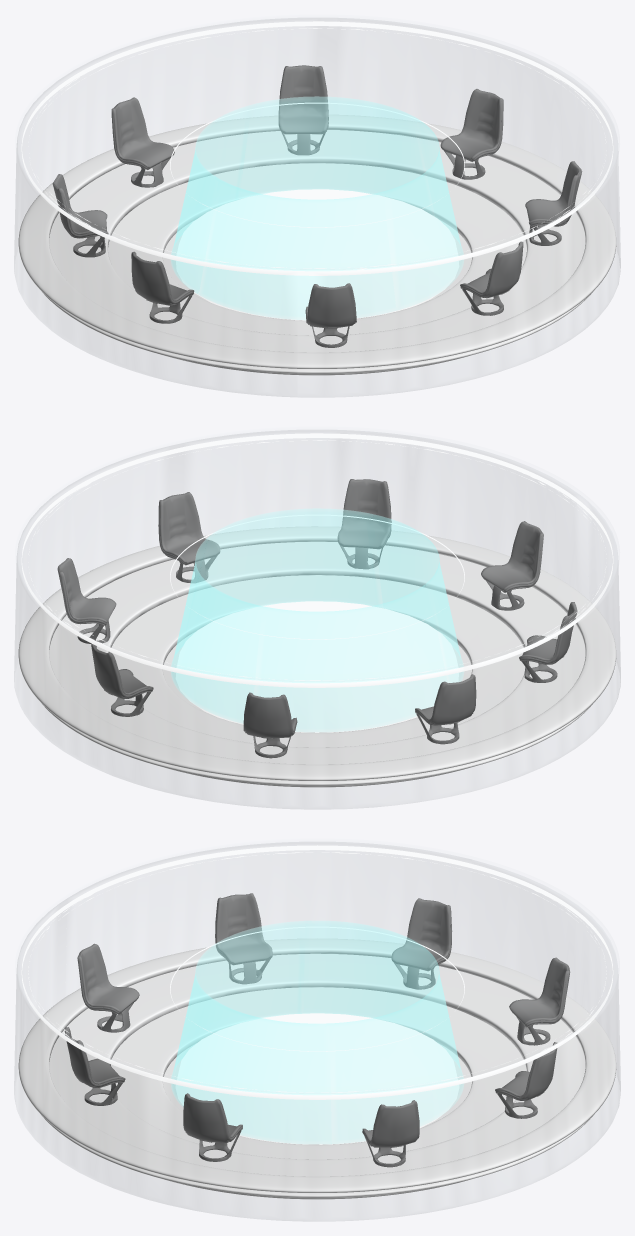
File: meet.glb
3 renders of one model, top to bottom at view 1: azimuth 30°, elevation 25°; view 2: azimuth 150°, elevation 25°; view 3: azimuth 270°, elevation 25°, orthographic.
Visible parts, largest first — view 1: Cylinder.015__0.001, Cylinder, Cylinder.001__0.001, Cylinder.005, Cylinder.016, Cylinder.006, Cylinder.004, OBJ_HighTechChair_base_0, Cylinder.014, Cylinder.003, Cylinder.012; view 2: Cylinder.015__0.001, Cylinder, Cylinder.001__0.001, Cylinder.005, Cylinder.016, Cylinder.006, Cylinder.004, OBJ_HighTechChair_base_0, Cylinder.014, Cylinder.003, Cylinder.012; view 3: Cylinder.015__0.001, Cylinder, Cylinder.001__0.001, Cylinder.005, Cylinder.016, Cylinder.006, Cylinder.004, OBJ_HighTechChair_base_0, Cylinder.014, Cylinder.003, Cylinder.012.
Boxes of the visible parts, left/top/right/bottom form: Cylinder.015__0.001: left=15, top=15, right=619, bottom=269; Cylinder: left=14, top=18, right=620, bottom=396; Cylinder.001__0.001: left=171, top=96, right=463, bottom=319; Cylinder.005: left=42, top=130, right=592, bottom=373; Cylinder.016: left=176, top=189, right=459, bottom=320; Cylinder.006: left=18, top=114, right=616, bottom=368; Cylinder.004: left=108, top=163, right=526, bottom=375; OBJ_HighTechChair_base_0: left=52, top=65, right=582, bottom=347; Cylinder.014: left=21, top=21, right=613, bottom=275; Cylinder.003: left=163, top=220, right=471, bottom=304; Cylinder.012: left=170, top=102, right=464, bottom=227; Cylinder.015__0.001: left=15, top=427, right=619, bottom=681; Cylinder: left=14, top=430, right=620, bottom=808; Cylinder.001__0.001: left=171, top=508, right=463, bottom=731; Cylinder.005: left=42, top=541, right=592, bottom=785; Cylinder.016: left=175, top=601, right=458, bottom=732; Cylinder.006: left=18, top=526, right=616, bottom=780; Cylinder.004: left=110, top=575, right=525, bottom=787; OBJ_HighTechChair_base_0: left=57, top=479, right=577, bottom=758; Cylinder.014: left=21, top=433, right=613, bottom=687; Cylinder.003: left=163, top=632, right=471, bottom=716; Cylinder.012: left=170, top=514, right=464, bottom=639; Cylinder.015__0.001: left=15, top=839, right=619, bottom=1093; Cylinder: left=14, top=842, right=620, bottom=1220; Cylinder.001__0.001: left=171, top=921, right=463, bottom=1143; Cylinder.005: left=41, top=953, right=592, bottom=1197; Cylinder.016: left=175, top=1013, right=459, bottom=1144; Cylinder.006: left=18, top=938, right=616, bottom=1192; Cylinder.004: left=110, top=987, right=526, bottom=1199; OBJ_HighTechChair_base_0: left=64, top=893, right=570, bottom=1167; Cylinder.014: left=21, top=845, right=613, bottom=1099; Cylinder.003: left=163, top=1044, right=471, bottom=1127; Cylinder.012: left=170, top=926, right=464, bottom=1051.
Size of the model in its own units: 10.38 by 2.42 by 10.38.
